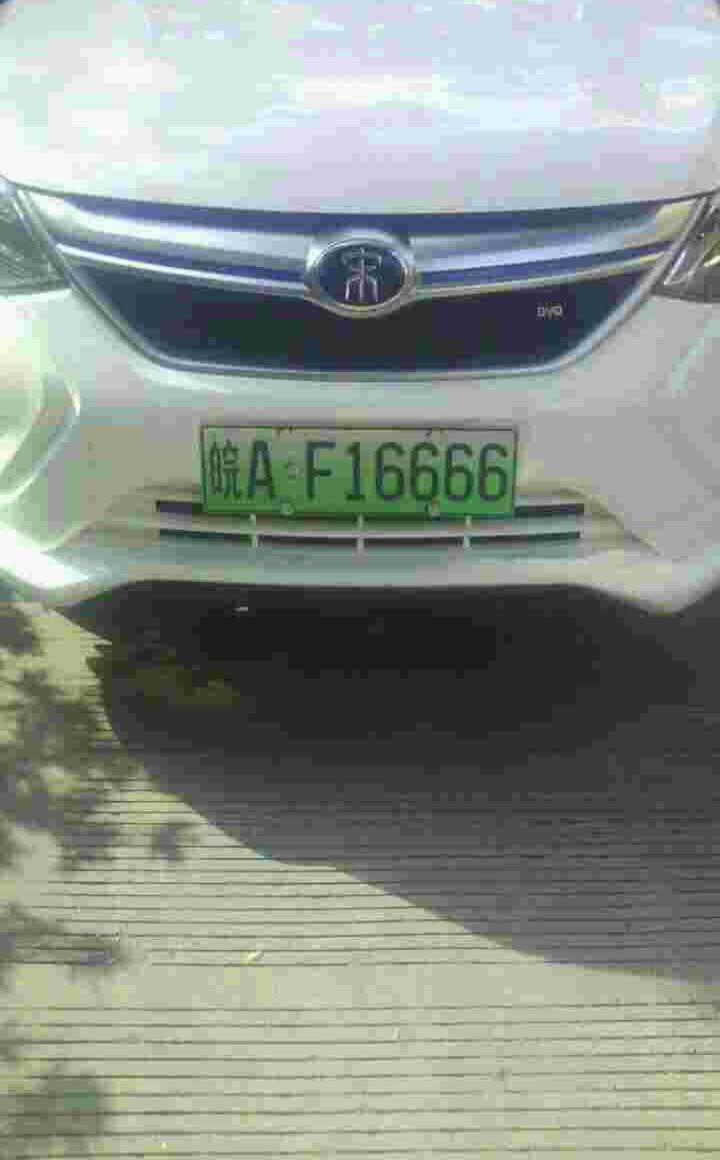car_id: (199, 425, 515, 514)
